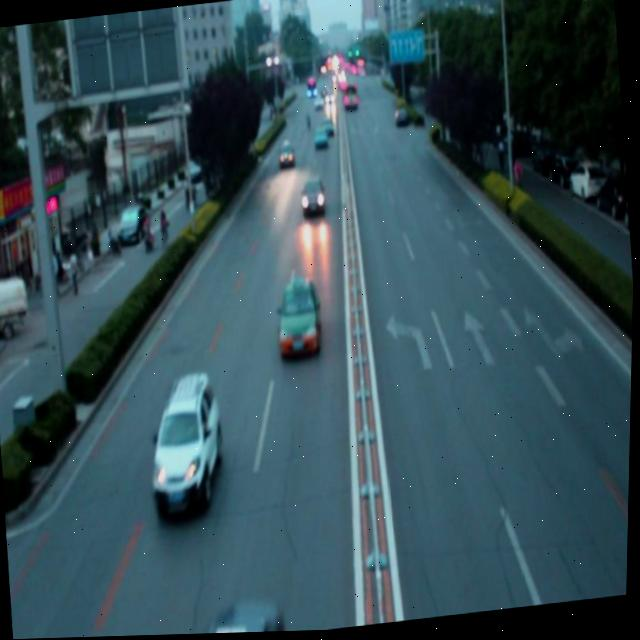car: (144, 368, 231, 518), (273, 274, 326, 360), (299, 177, 326, 219)
